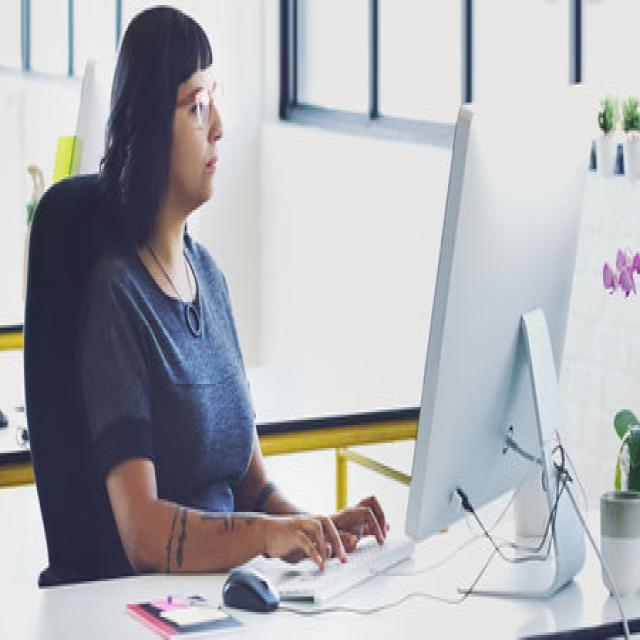desktop-person: (66, 0, 602, 615)
